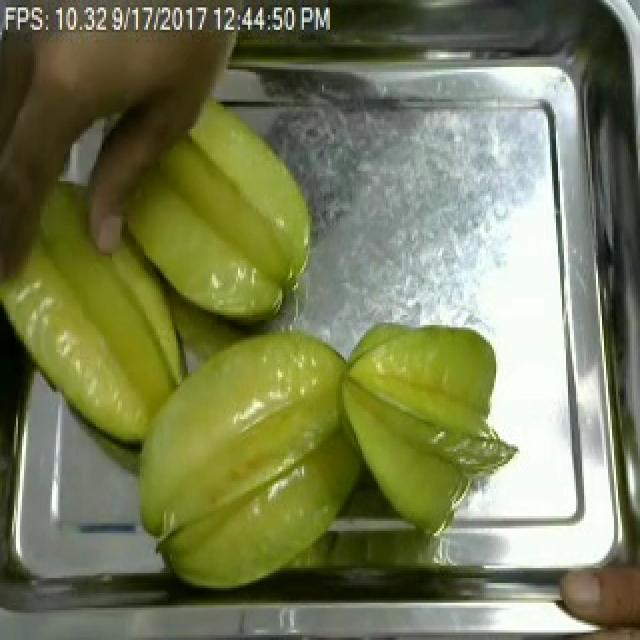fruit: (120, 317, 384, 603), (0, 154, 210, 461), (104, 87, 324, 340), (328, 315, 522, 546)
